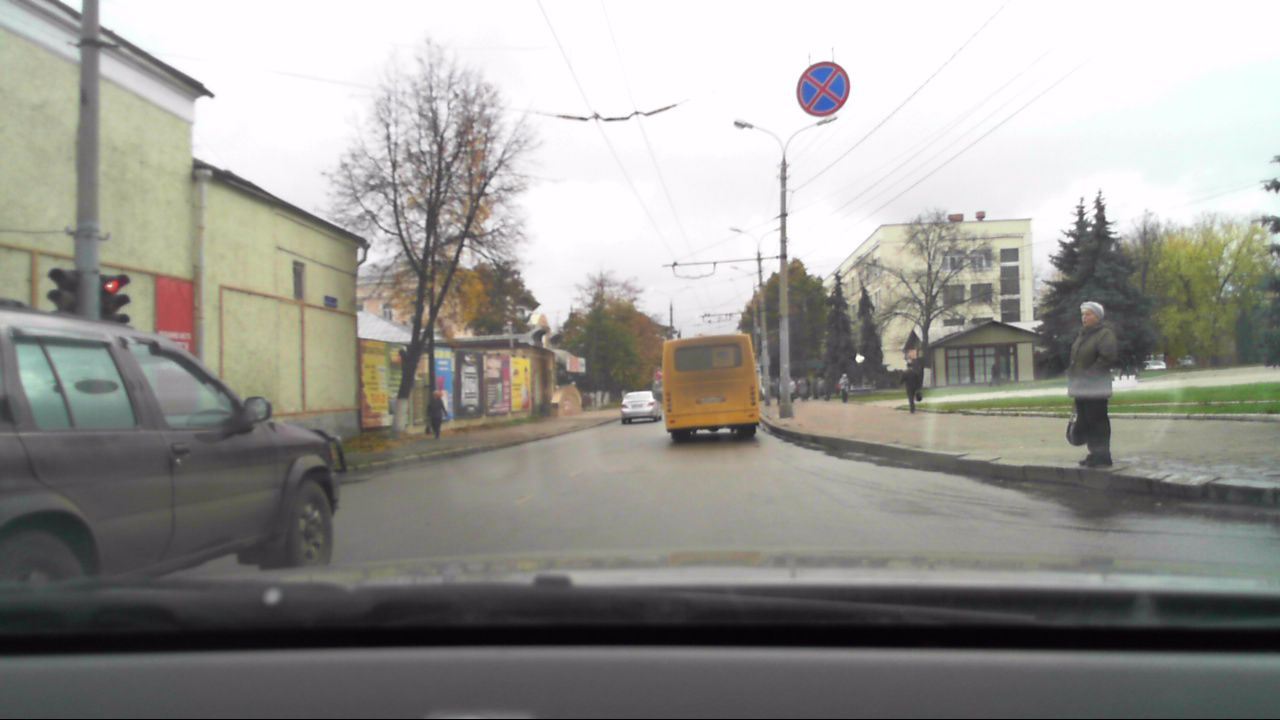No Parking: (794, 57, 847, 120)
